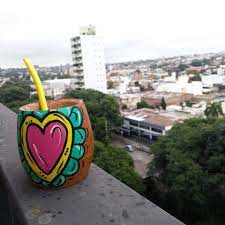madera: (13, 93, 98, 189)
mate: (15, 95, 100, 191)
